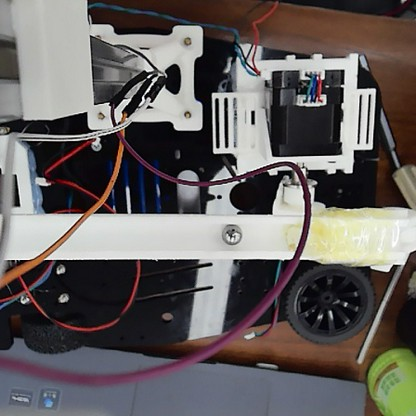ironball: (220, 221, 242, 244)
